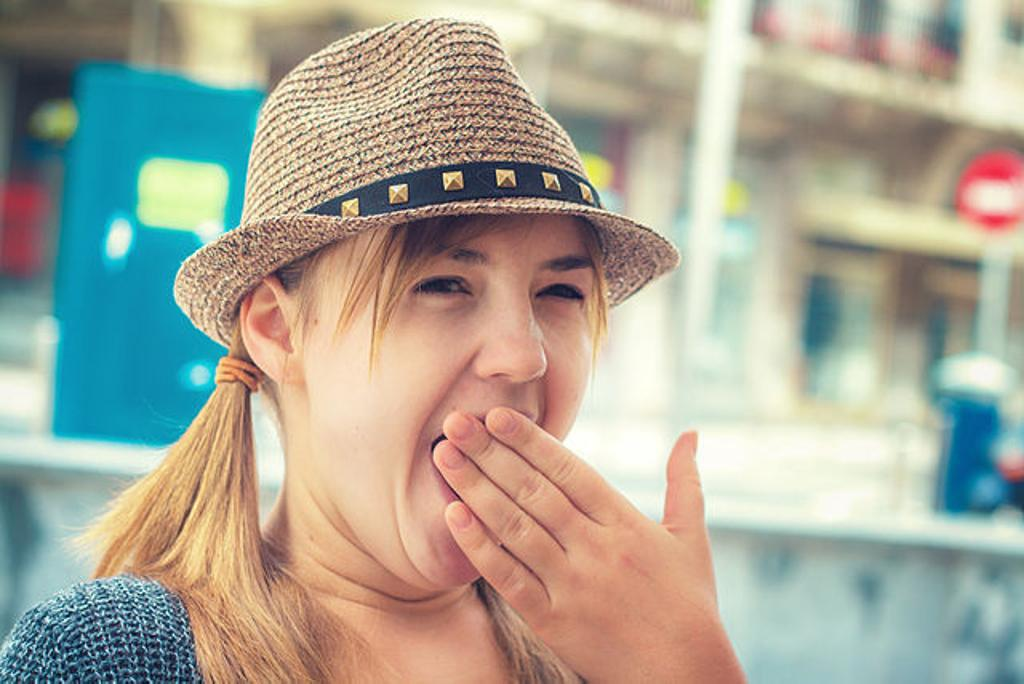face: (303, 177, 597, 589)
